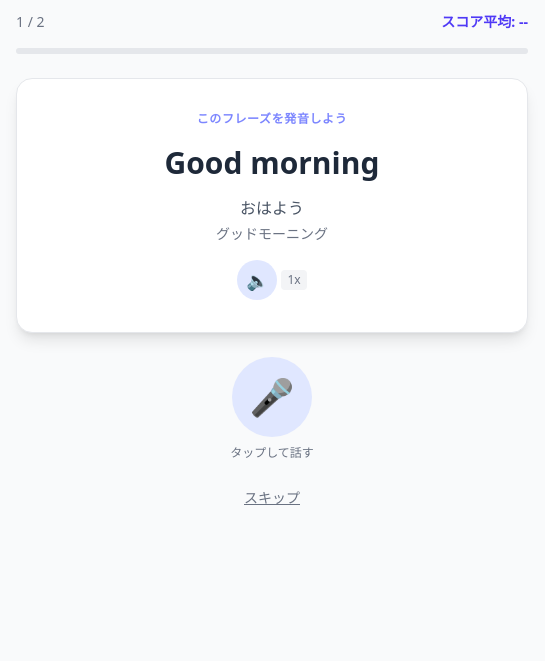
PronunciationPractice › scores a partial match and marks the missed word
This screenshot has width=545, height=661.
Click the button named "録音して発音する" at (272, 397), box [232, 357, 312, 437]
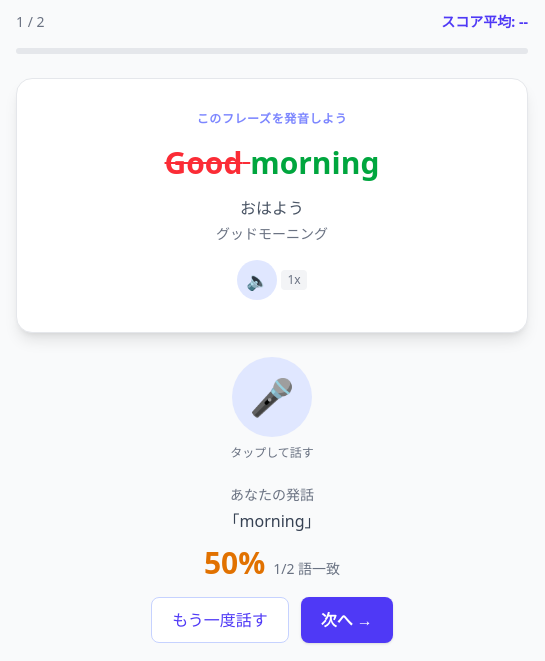
Check: the text "50%" is shown, box [204, 542, 265, 583]
Check: the text "1/2 語一致" is shown, box [273, 559, 340, 578]
Check: the text named "morning 一致" is shown, box [250, 142, 379, 183]
